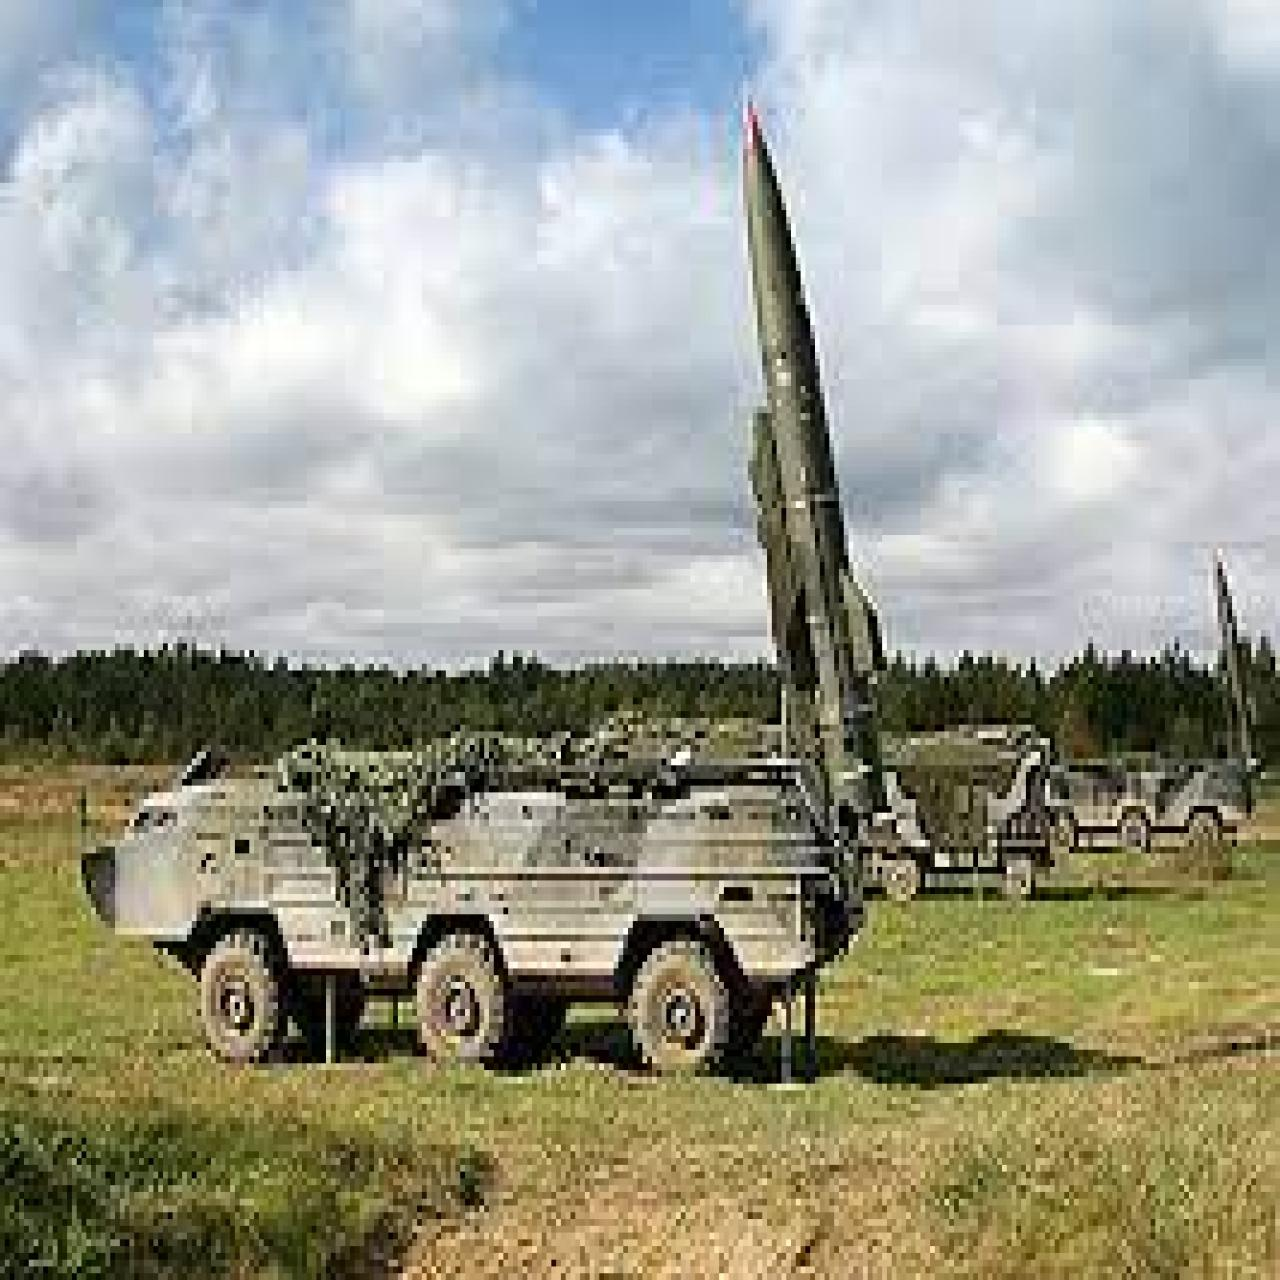MIL_Veh: (84, 114, 825, 1069), (1044, 556, 1262, 850), (859, 736, 1049, 897)
